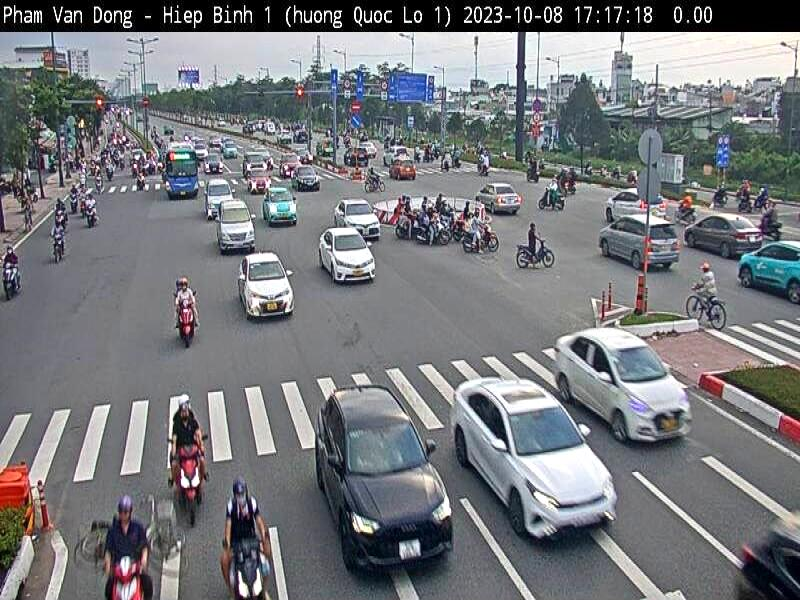bus: (161, 139, 200, 196)
car: (453, 377, 620, 543), (312, 381, 454, 574), (557, 327, 692, 434), (598, 214, 682, 278), (684, 212, 763, 264), (741, 242, 800, 309), (238, 251, 291, 319), (319, 224, 377, 286), (606, 183, 665, 230), (214, 195, 258, 254), (334, 193, 381, 240), (470, 178, 523, 213), (202, 176, 236, 218), (266, 186, 298, 227), (292, 161, 322, 195), (391, 156, 419, 184)
motorcycle: (168, 436, 211, 528), (511, 237, 560, 268), (172, 290, 198, 345), (461, 222, 500, 254), (538, 185, 569, 211), (2, 262, 22, 300)
